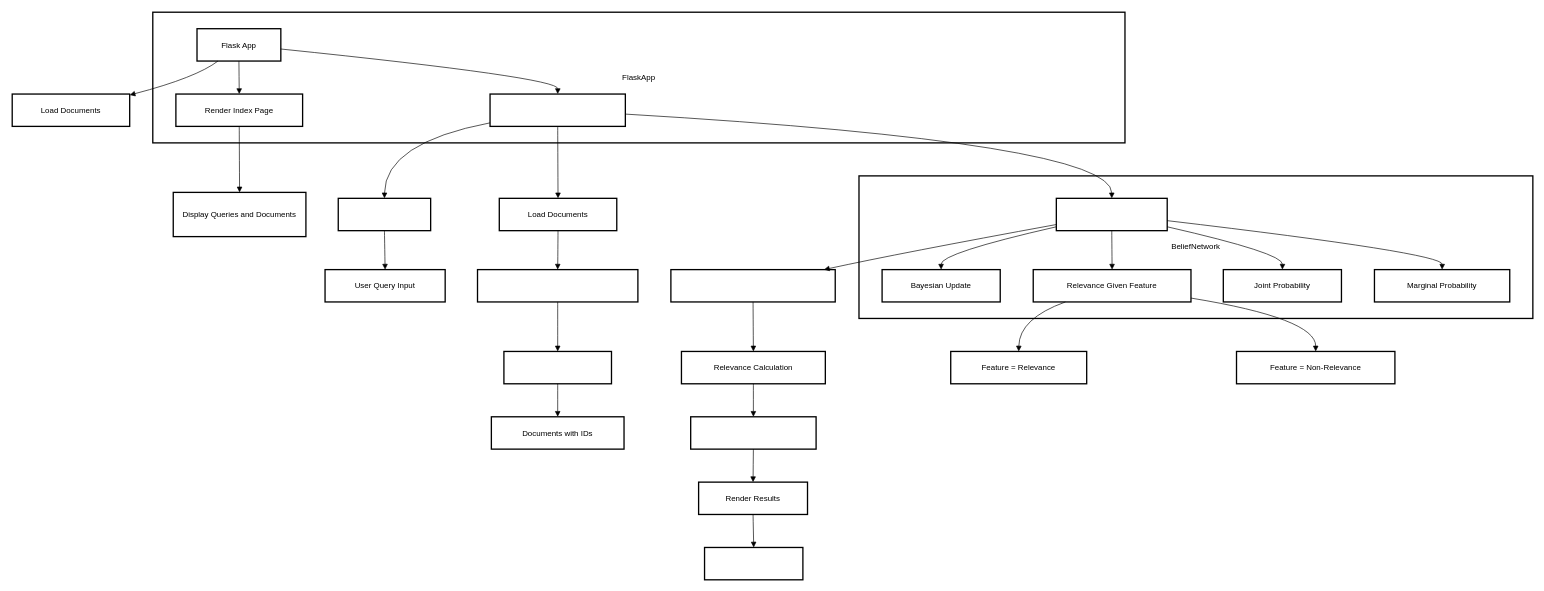
This 1544x591 diagram has some shape labels left out. The shapes that lost their labels are listed below. From the top down, each one's centre as x and y in pixels, then its label:
At point 557,110: "Calculate Relevance".
At point 384,214: "User Query".
At point 1111,214: "Belief Network".
At point 557,285: "Text File - documents.txt".
At point 753,285: "Calculate Relevance Score".
At point 557,367: "Document List".
At point 753,432: "Sorted Documents".
At point 753,563: "Results Page".
